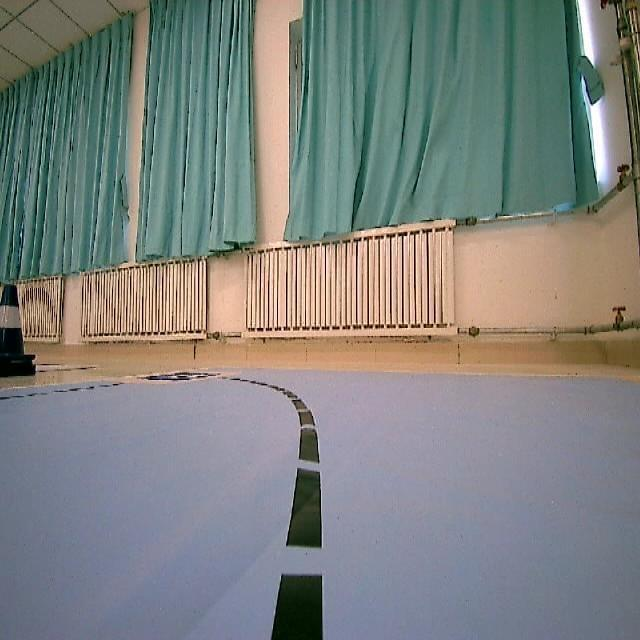obstacle: (0, 278, 40, 383)
